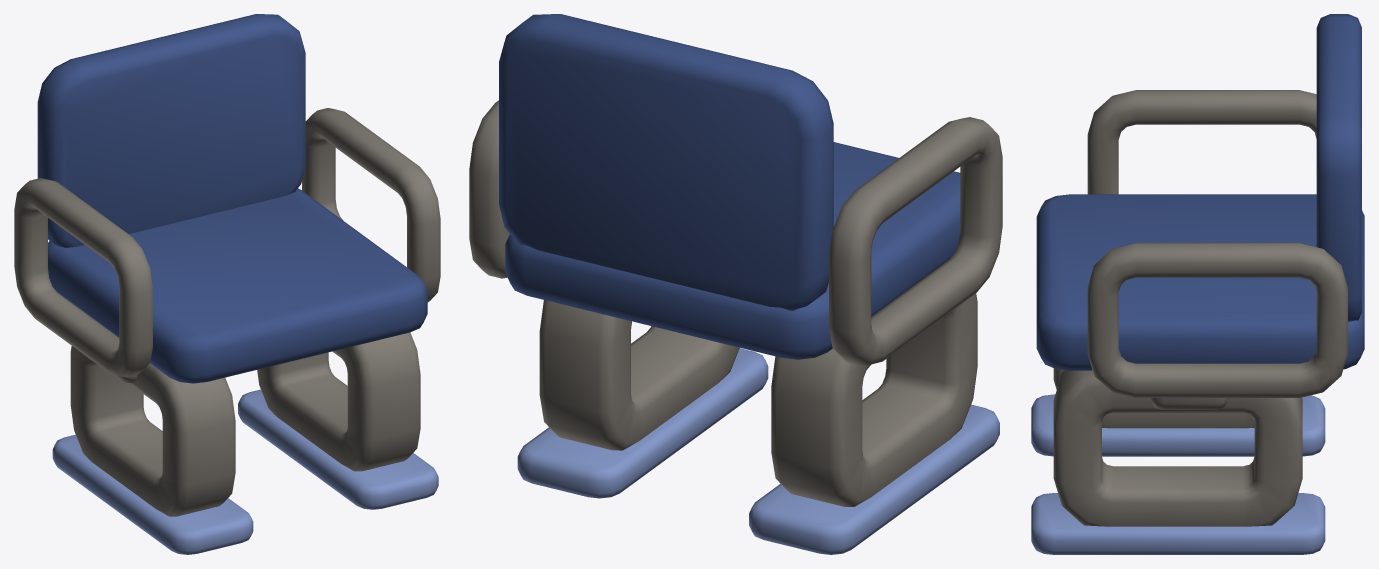
File: fauteuil.glb
3 renders of one model, left to right at view 1: azimuth 30°, elevation 25°; view 2: azimuth 150°, elevation 25°; view 3: azimuth 270°, elevation 25°, orthographic. The views are drawn at different scales.
Parts seen in each view (by area): view 1: FTI_Bleu_Moyen, FTI_Gris_Chaud, FTI_Bleu_Clair; view 2: FTI_Bleu_Moyen, FTI_Gris_Chaud, FTI_Bleu_Clair; view 3: FTI_Gris_Chaud, FTI_Bleu_Moyen, FTI_Bleu_Clair.
Part boxes in pixels (x1,y1,x2,y2): FTI_Bleu_Moyen: (37,14,427,383); FTI_Gris_Chaud: (14,108,440,516); FTI_Bleu_Clair: (52,389,438,554); FTI_Bleu_Moyen: (499,14,960,359); FTI_Gris_Chaud: (469,100,1002,506); FTI_Bleu_Clair: (517,348,999,554); FTI_Gris_Chaud: (1053,90,1347,526); FTI_Bleu_Moyen: (1036,14,1364,370); FTI_Bleu_Clair: (1031,394,1325,554).
Bounding box in the file's own units: 0.7 × 0.82 × 0.59.
